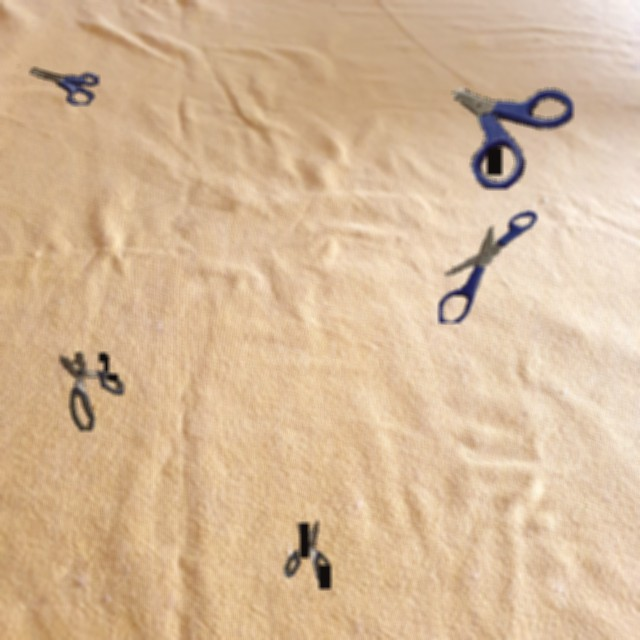scissors: (452, 88, 573, 189), (439, 211, 537, 323), (60, 352, 124, 431), (284, 520, 331, 589), (30, 68, 99, 105)
